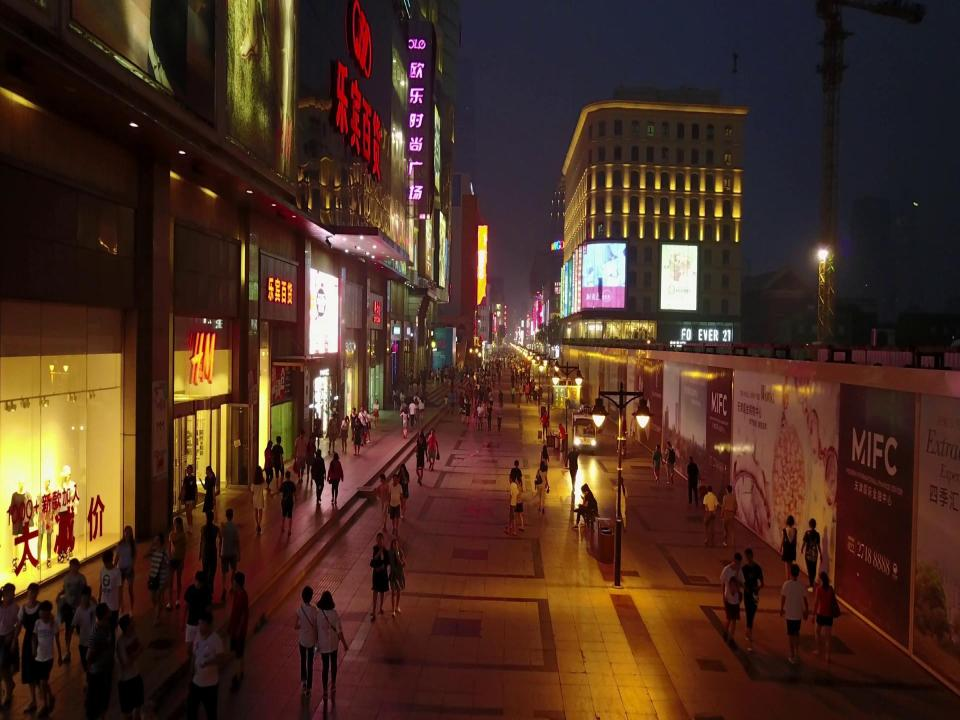truck: (572, 408, 602, 450)
